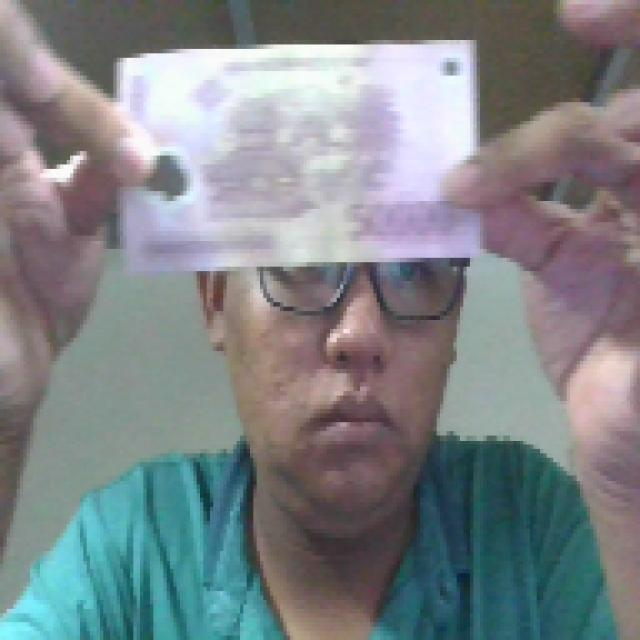50 000 VND: (106, 31, 486, 276)
